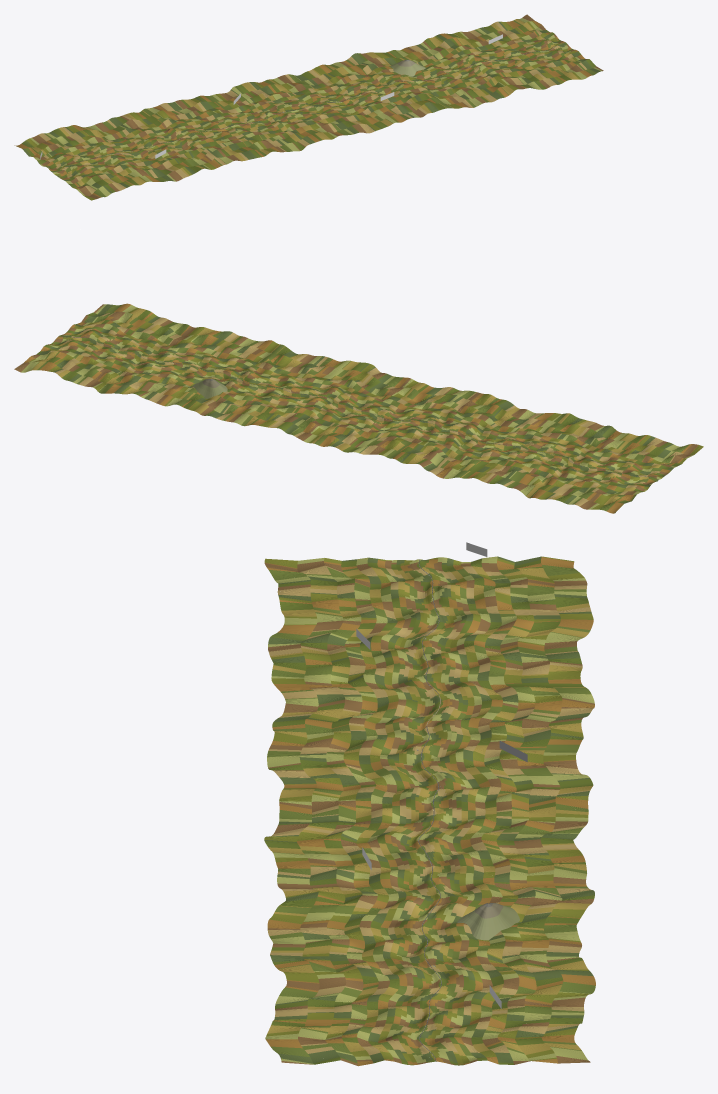
Rendered from palouse.glb.
3 renders of one model, top to bottom at view 1: azimuth 30°, elevation 25°; view 2: azimuth 150°, elevation 25°; view 3: azimuth 270°, elevation 25°, orthographic. The views are drawn at different scales.
Visible parts, largest first — view 1: LoessFields_051, LoessFields_042, LoessFields_034, LoessFields_073, LoessFields_018, LoessFields_025, LoessFields_003, LoessFields_060, LoessFields_009, LoessFields_064, LoessFields_043, LoessFields_056 (+65 smaller); view 2: LoessFields_051, LoessFields_042, LoessFields_073, LoessFields_034, LoessFields_009, LoessFields_018, LoessFields_025, LoessFields_003, LoessFields_043, LoessFields_060, LoessFields_064, LoessFields_058 (+60 smaller); view 3: LoessFields_064, LoessFields_009, LoessFields_073, LoessFields_018, LoessFields_043, LoessFields_033, LoessFields_042, LoessFields_055, LoessFields_021, LoessFields_051, LoessFields_027, LoessFields_034 (+66 smaller).
Boxes of the visible parts, x1=… form: LoessFields_051: x1=341, y1=52, x2=405, y2=90; LoessFields_042: x1=333, y1=96, x2=380, y2=135; LoessFields_034: x1=232, y1=82, x2=290, y2=122; LoessFields_073: x1=538, y1=42, x2=601, y2=79; LoessFields_018: x1=163, y1=134, x2=232, y2=169; LoessFields_025: x1=210, y1=120, x2=269, y2=160; LoessFields_003: x1=19, y1=134, x2=87, y2=174; LoessFields_060: x1=442, y1=59, x2=510, y2=102; LoessFields_009: x1=66, y1=123, x2=120, y2=161; LoessFields_064: x1=428, y1=33, x2=493, y2=68; LoessFields_043: x1=330, y1=92, x2=401, y2=128; LoessFields_056: x1=419, y1=70, x2=483, y2=107; LoessFields_051: x1=197, y1=376, x2=263, y2=422; LoessFields_042: x1=316, y1=364, x2=400, y2=405; LoessFields_073: x1=79, y1=303, x2=144, y2=344; LoessFields_034: x1=326, y1=412, x2=398, y2=452; LoessFields_009: x1=516, y1=458, x2=593, y2=499; LoessFields_018: x1=505, y1=410, x2=562, y2=455; LoessFields_025: x1=443, y1=396, x2=517, y2=444; LoessFields_003: x1=579, y1=465, x2=641, y2=512; LoessFields_043: x1=310, y1=360, x2=369, y2=407; LoessFields_060: x1=172, y1=330, x2=240, y2=377; LoessFields_064: x1=97, y1=351, x2=162, y2=394; LoessFields_058: x1=148, y1=358, x2=221, y2=406; LoessFields_064: x1=399, y1=960, x2=595, y2=993; LoessFields_009: x1=398, y1=613, x2=593, y2=647; LoessFields_073: x1=265, y1=1027, x2=453, y2=1064; LoessFields_018: x1=271, y1=674, x2=467, y2=706; LoessFields_043: x1=264, y1=836, x2=469, y2=865; LoessFields_033: x1=397, y1=754, x2=582, y2=789; LoessFields_042: x1=264, y1=812, x2=452, y2=844; LoessFields_055: x1=268, y1=900, x2=468, y2=930; LoessFields_021: x1=377, y1=688, x2=594, y2=711; LoessFields_051: x1=399, y1=879, x2=594, y2=906; LoessFields_027: x1=377, y1=729, x2=583, y2=755; LoessFields_034: x1=397, y1=774, x2=593, y2=802.
Bounding box in the file's own units: 20036 × 832 × 7116.
